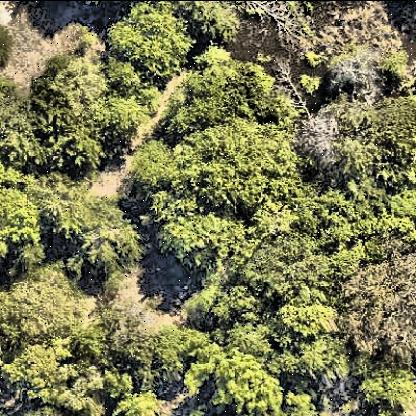tree-top: (179, 123, 299, 206), (301, 167, 403, 253), (3, 96, 115, 174), (343, 253, 416, 362), (2, 264, 98, 342), (265, 301, 349, 384), (155, 207, 256, 273), (64, 188, 136, 276), (250, 234, 340, 302), (7, 332, 79, 413), (105, 2, 191, 68), (152, 325, 218, 395), (216, 350, 286, 416), (101, 60, 164, 130), (186, 275, 266, 325), (291, 103, 351, 165), (60, 350, 108, 416), (125, 142, 179, 196), (357, 366, 415, 416), (330, 44, 384, 97), (55, 56, 105, 113), (1, 183, 41, 249), (373, 92, 413, 147), (108, 392, 172, 416)
